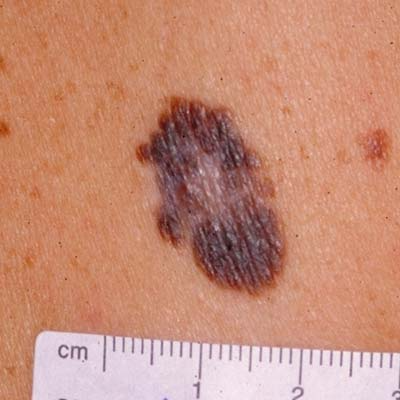Melanoma: (137, 95, 287, 297)
